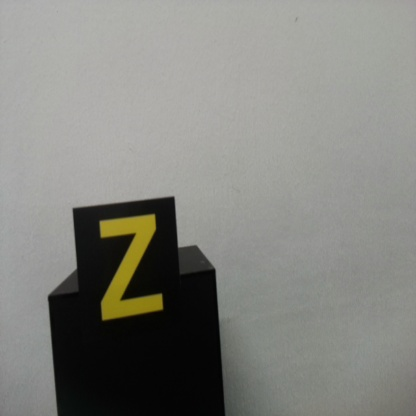id_15: (72, 207, 179, 334)
